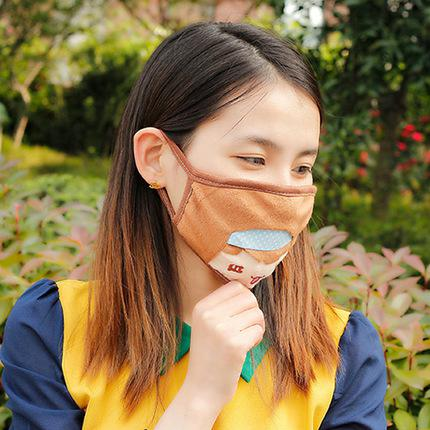OK: (155, 120, 317, 282)
